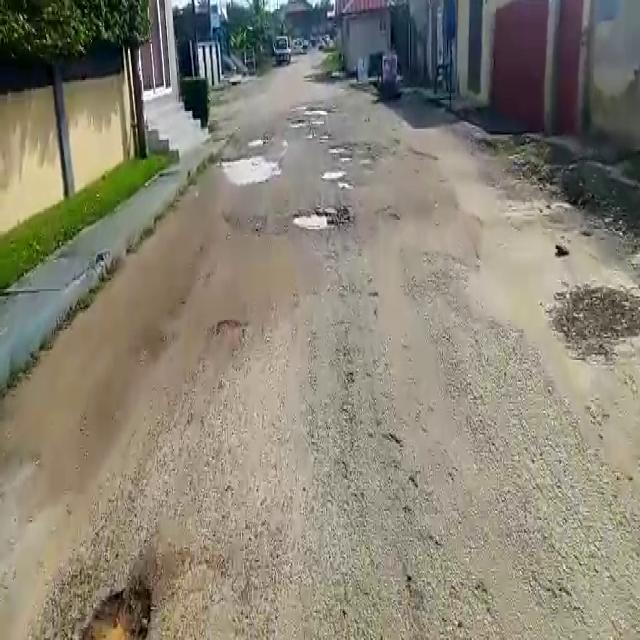Pothole: (71, 580, 157, 639), (222, 151, 278, 182), (288, 206, 337, 228), (328, 145, 354, 160), (321, 168, 346, 181)
